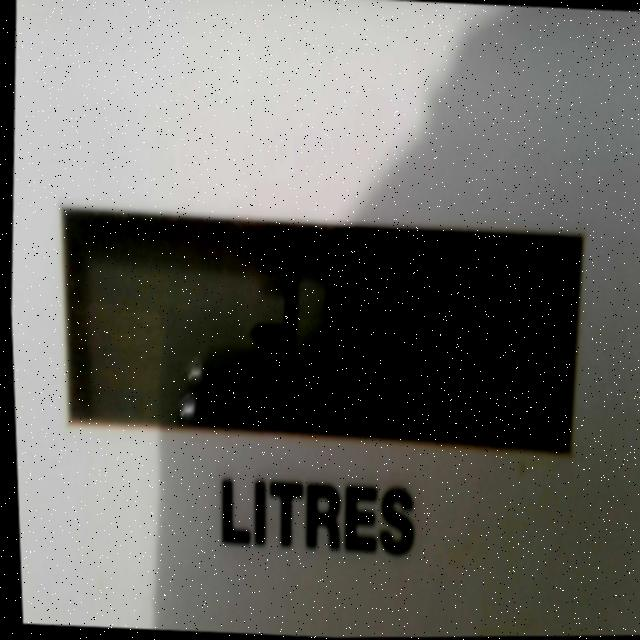.: (366, 384, 392, 430)
0: (460, 253, 549, 425), (379, 254, 462, 438)
3: (221, 240, 313, 420)
9: (302, 245, 395, 450)
